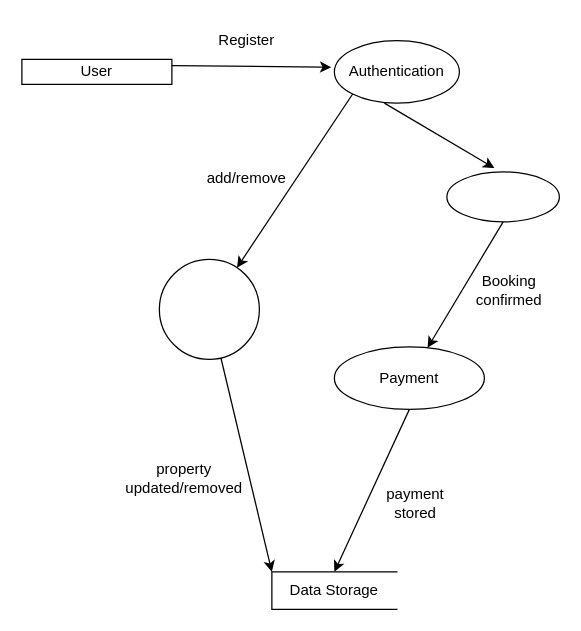
Image size: 581x631. Some labels were removed from this diagram. Here are the shapes that lost their labels. From the top down, the centre of each, then its label:
At pixel 502 196: "Booking".
At pixel 208 308: "Property Management".
